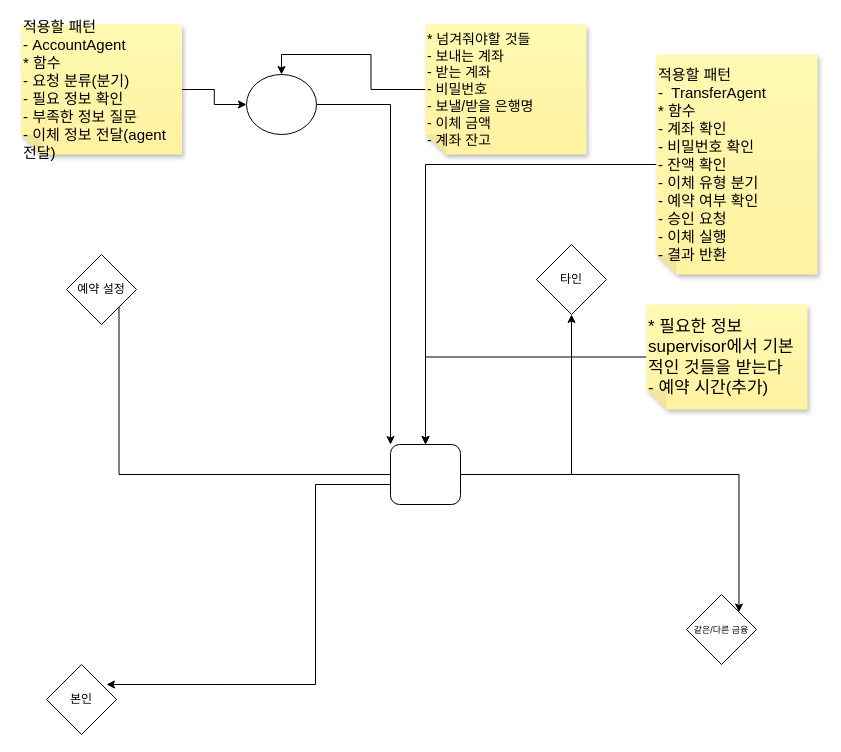
Image size: 841x752. Some labels were removed from this diagram. The shapes that lost their labels are listed below. From the top down, each one's centre as x and y in pixels, then its label:
At (281,104): "계좌".
At (425,474): "이체".
